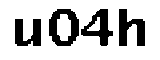0: (46, 7, 80, 47)
4: (81, 6, 114, 48)
h: (118, 7, 148, 51)
u: (10, 12, 43, 51)
